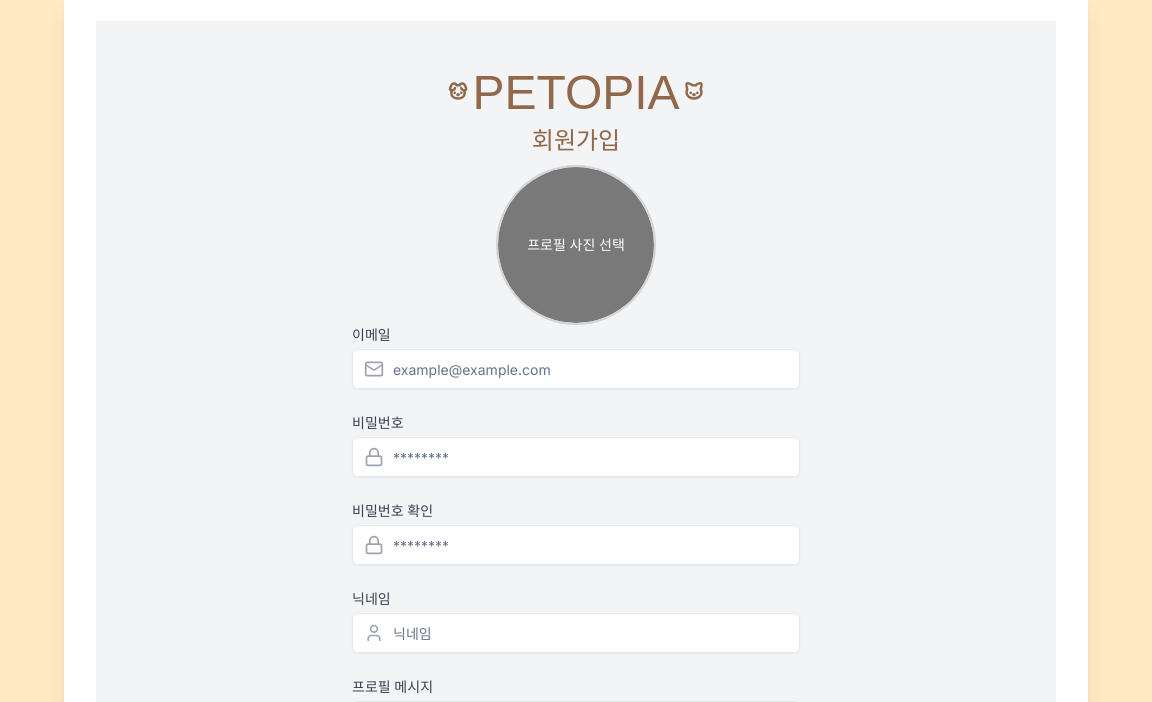
회원가입 페이지 테스트 (API Mocking) › 비밀번호 불일치로 회원가입 실패 (클라이언트 사이드 검증)
The image size is (1152, 702).
Note: 비밀번호와 비밀번호 확인 불일치 입력
Type "mismatch@example.com" into the field with id "email" at (576, 369), box [352,349,800,389]
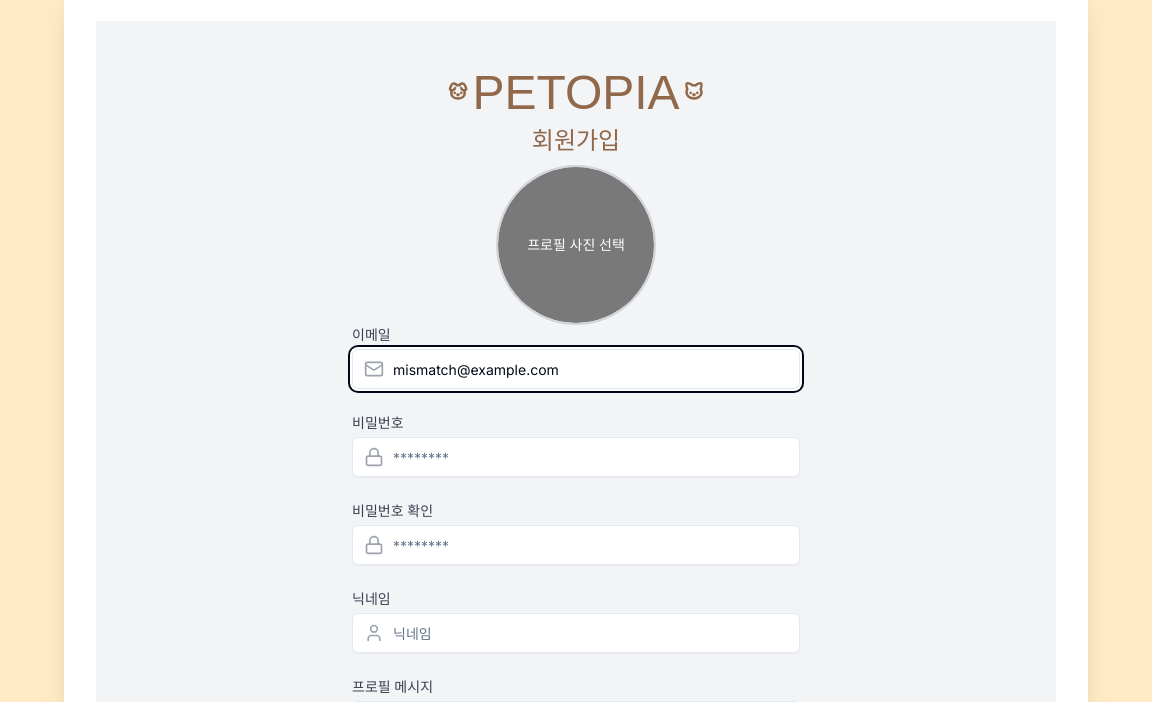
Type "MismatchPassword123!" into the password field labelled "비밀번호" at (576, 457), box [352,437,800,477]
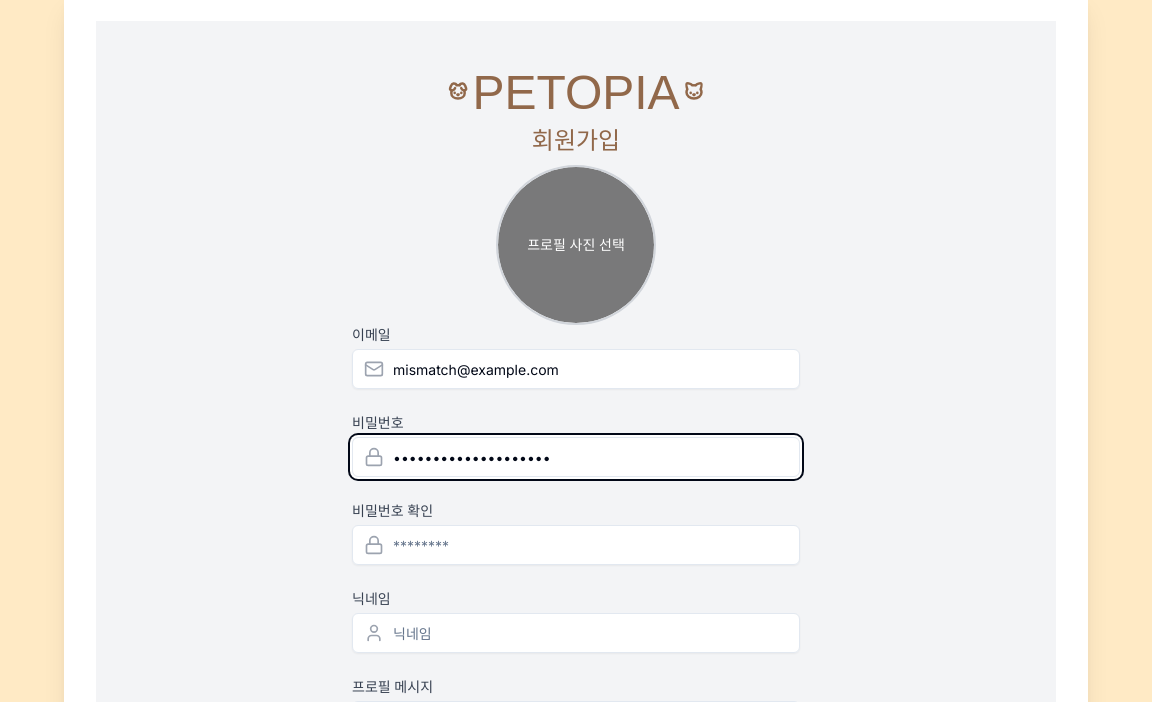
Type "DifferentPassword123!" into the password field with id "confirmPassword" at (576, 545), box [352,525,800,565]
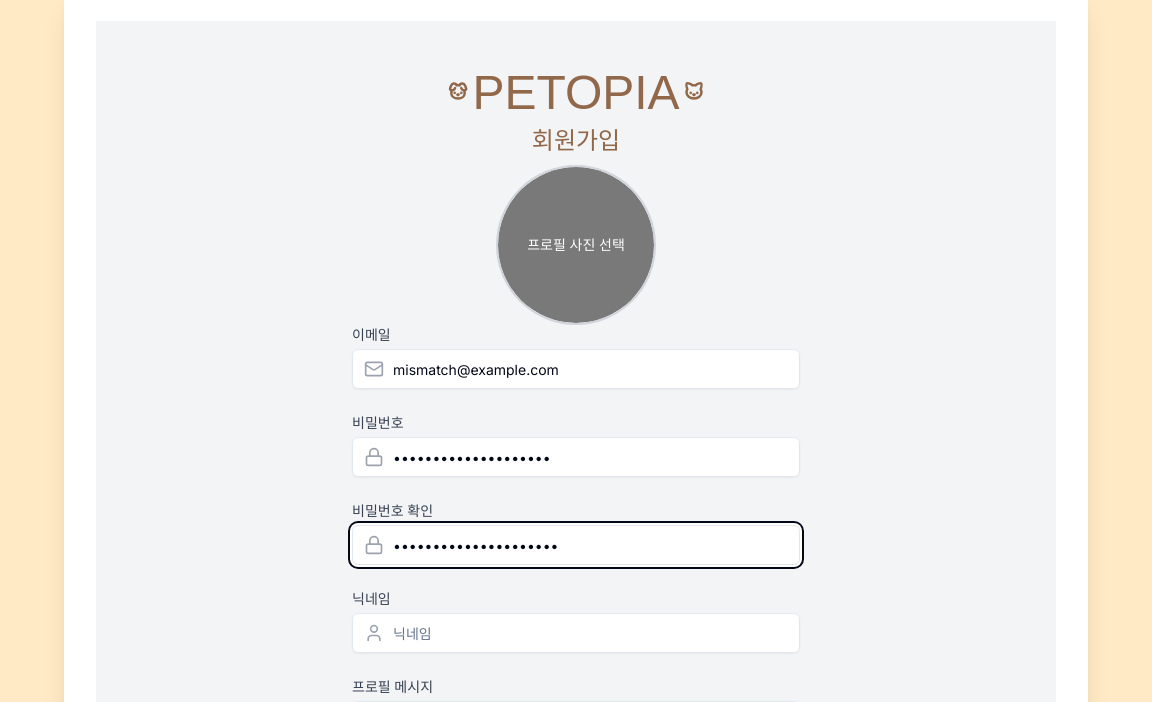
Type "mismatchuser" into the field with id "username" at (576, 633), box [352,613,800,653]
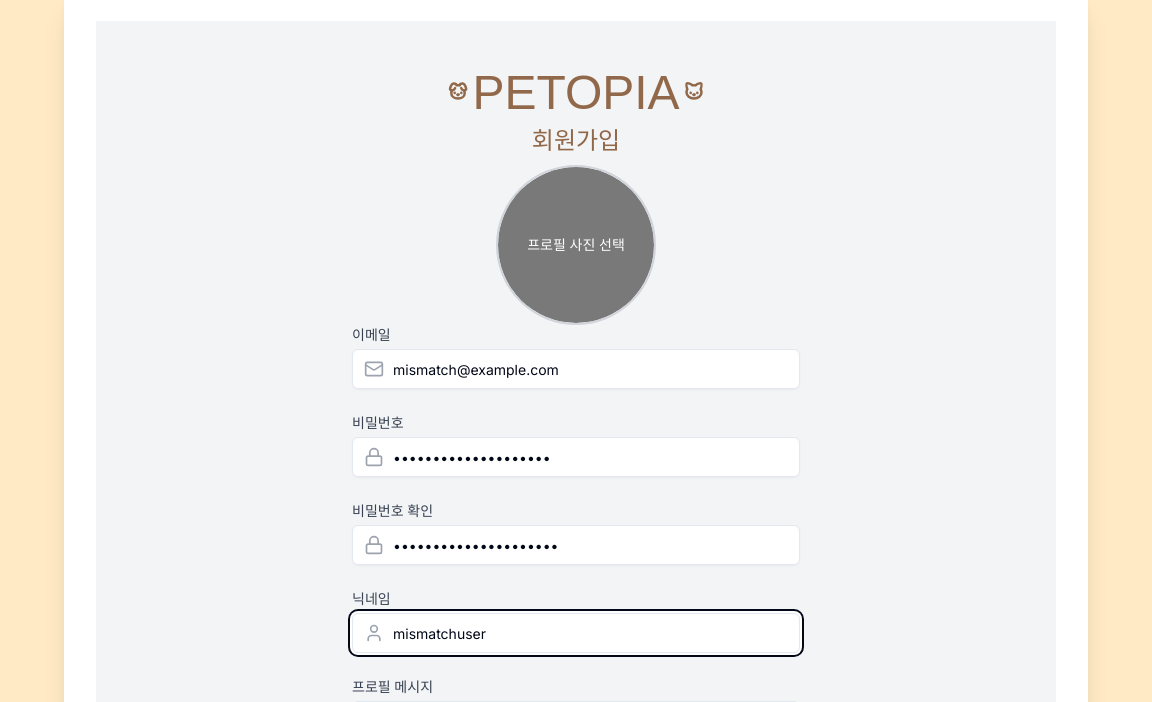
Scroll
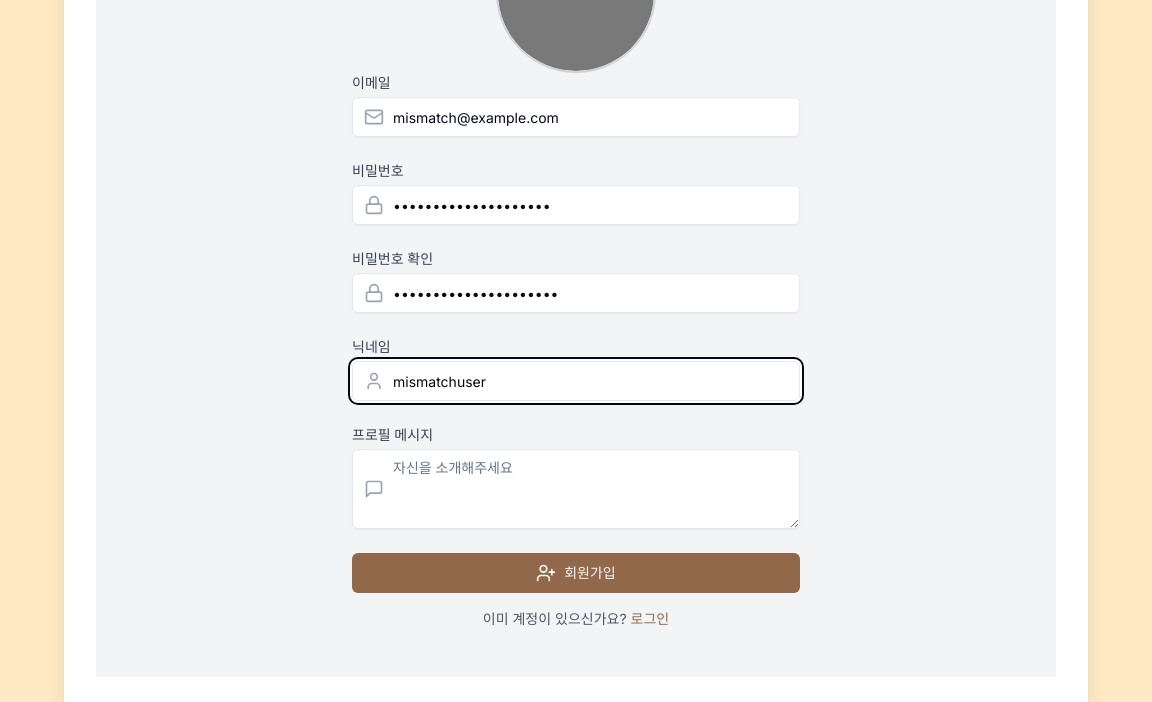
Click the submit button at (576, 573), box [352,553,800,593]
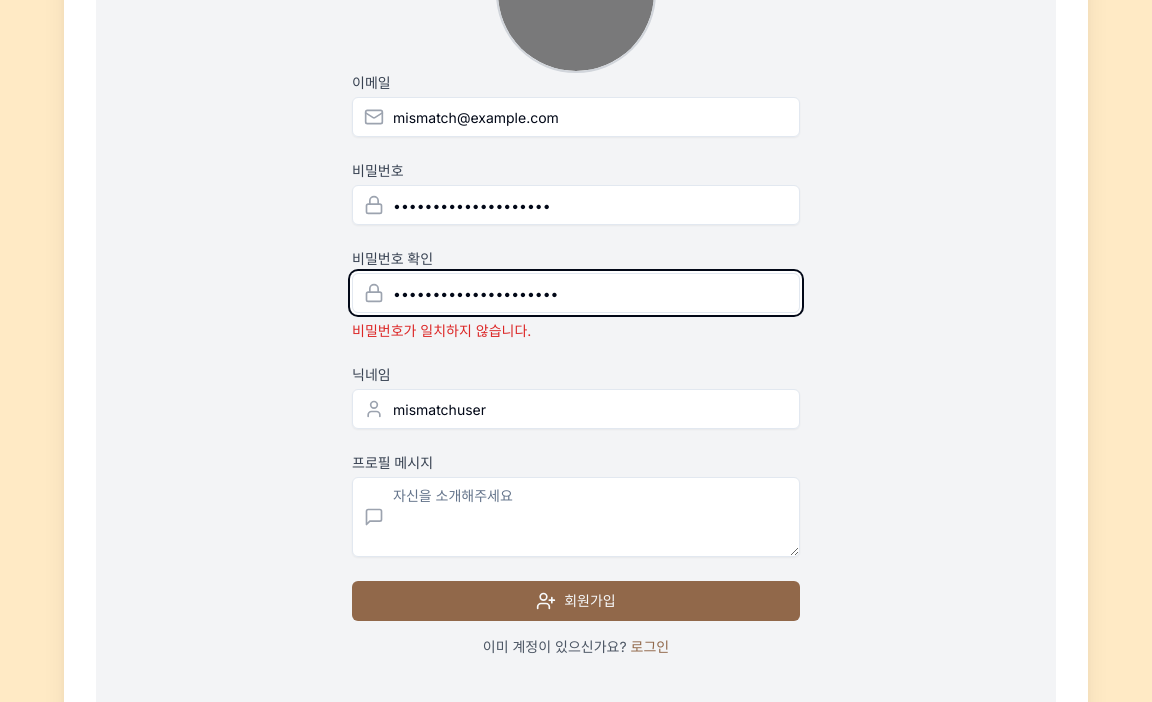
Result: the text "비밀번호가 일치하지 않습니다." is shown at [352,322,531,339]
